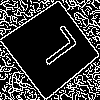L: (26, 23, 80, 74)
